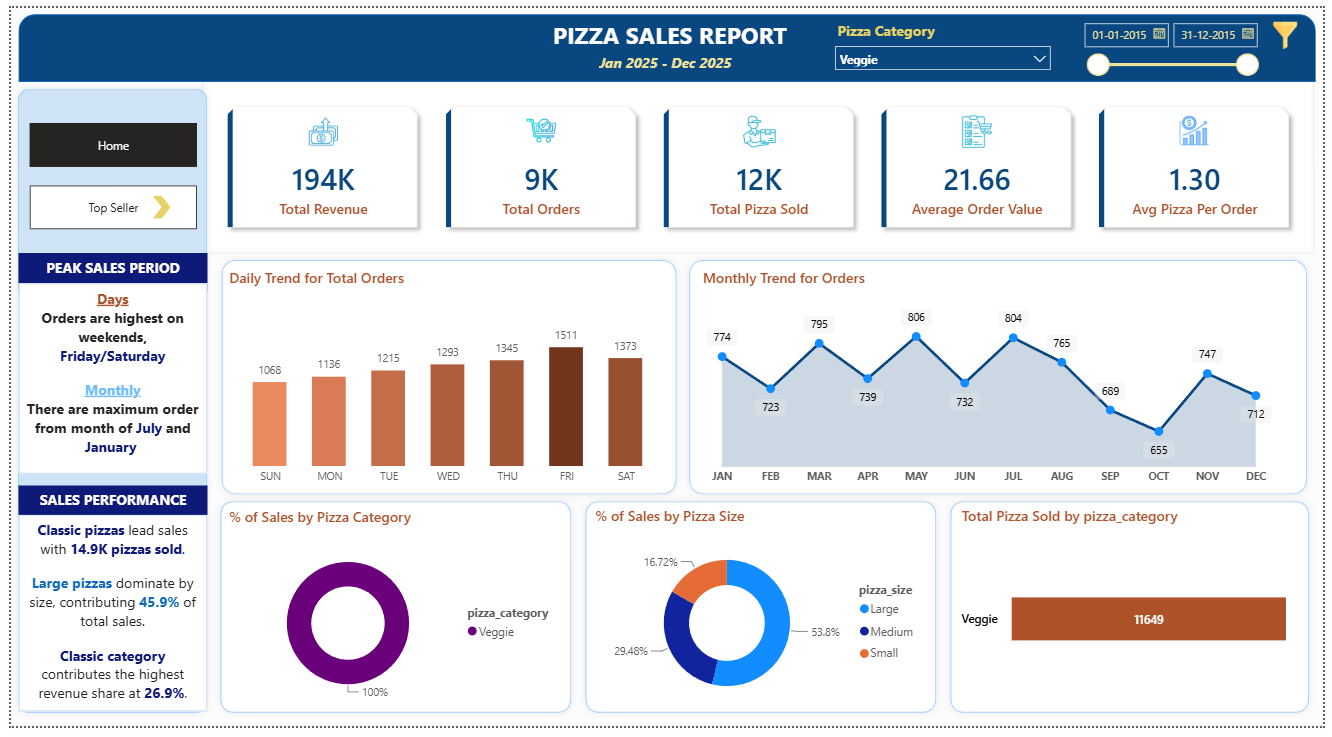

Layout of this report page (visuals, bound fields, positions):
{"tool":"powerbi","page":{"name":"Home","canvas":[1500,820],"ordinal":0},"visuals":[{"type":"cardVisual","fields":{"Data":["pizza_sales.Total Revenue","pizza_sales.Total Orders","pizza_sales.Total Pizza Sold","pizza_sales.Average Order Value","pizza_sales.Avg Pizza Per Order"]},"box":[218.7,82.7,1272,197.3],"z":0},{"type":"shape","box":[8,6.7,1482.7,77.3],"z":1000},{"type":"textbox","box":[614.3,7.1,280,50],"z":2000},{"type":"textbox","box":[666.7,46.2,167.9,35.9],"z":3000},{"type":"shape","box":[232.2,280.5,535.6,283.9],"z":4000},{"type":"columnChart","title":"Daily Trend for Total Orders","fields":{"Y":["pizza_sales.Total Orders"],"Category":["pizza_sales.Day"]},"box":[244.8,297.7,511.5,256.3],"z":5000},{"type":"shape","box":[767.8,280.5,721.8,283.9],"z":6000},{"type":"areaChart","title":"Monthly Trend for Orders","fields":{"Category":["pizza_sales.Order Month"],"Y":["pizza_sales.Total Orders"]},"box":[786.2,297.7,664.4,256.3],"z":7000},{"type":"shape","box":[1065.4,555.1,425.6,257.7],"z":8000},{"type":"shape","box":[648.7,555.1,416.7,257.7],"z":9000},{"type":"shape","box":[232.1,556.4,416.7,257.7],"z":10000},{"type":"donutChart","title":"% of Sales by Pizza Category","fields":{"Category":["pizza_sales.pizza_category"],"Y":["pizza_sales.Total Revenue"]},"box":[244.9,570.5,391,233.3],"z":11000},{"type":"donutChart","title":"% of Sales by Pizza Size","fields":{"Y":["pizza_sales.Total Revenue"],"Category":["pizza_sales.pizza_size"]},"box":[662.8,569.2,391,235.9],"z":12000},{"type":"funnel","title":"Total Pizza Sold by pizza_category","fields":{"Y":["pizza_sales.Total Pizza Sold"],"Category":["pizza_sales.pizza_category"]},"box":[1082.1,569.2,385.9,225.6],"z":13000},{"type":"shape","box":[0,84.6,232.1,729.5],"z":14000},{"type":"textbox","box":[8.6,280.2,216,43.2],"z":15000},{"type":"textbox","box":[8.6,313.6,216,218.5],"z":16000},{"type":"textbox","box":[8.6,579,216,225.9],"z":17000},{"type":"textbox","box":[8,546,216.1,33.3],"z":18000},{"type":"pageNavigator","box":[21,130.9,191.4,50.6],"z":19000},{"type":"pageNavigator","box":[21,202.5,191.4,50.6],"z":20000},{"type":"shape","box":[162,214,21.1,26.7],"z":21000},{"type":"slicer","fields":{"Values":["pizza_sales.pizza_category"]},"box":[932,10.7,266.7,68],"z":22000},{"type":"slicer","fields":{"Values":["pizza_sales.order_date"]},"box":[1214.7,6.7,220,72],"z":23000},{"type":"image","box":[1435,16,44,31],"z":24000}]}

Visuals, with their boxes in screenshot pixels (x1, y1, x2, y2), scaled from the page's 1500x820 canvas onto the 1332x737 screenshot:
cardVisual - pizza_sales.Total Revenue x pizza_sales.Total Orders: x1=194, y1=74, x2=1324, y2=252
shape: x1=7, y1=6, x2=1324, y2=75
textbox: x1=545, y1=6, x2=794, y2=51
textbox: x1=592, y1=42, x2=741, y2=74
shape: x1=206, y1=252, x2=682, y2=507
"Daily Trend for Total Orders" columnChart: x1=217, y1=268, x2=672, y2=498
shape: x1=682, y1=252, x2=1323, y2=507
"Monthly Trend for Orders" areaChart: x1=698, y1=268, x2=1288, y2=498
shape: x1=946, y1=499, x2=1324, y2=731
shape: x1=576, y1=499, x2=946, y2=731
shape: x1=206, y1=500, x2=576, y2=732
"% of Sales by Pizza Category" donutChart: x1=217, y1=513, x2=565, y2=722
"% of Sales by Pizza Size" donutChart: x1=589, y1=512, x2=936, y2=724
"Total Pizza Sold by pizza_category" funnel: x1=961, y1=512, x2=1304, y2=714
shape: x1=0, y1=76, x2=206, y2=732
textbox: x1=8, y1=252, x2=199, y2=291
textbox: x1=8, y1=282, x2=199, y2=478
textbox: x1=8, y1=520, x2=199, y2=723
textbox: x1=7, y1=491, x2=199, y2=521
pageNavigator: x1=19, y1=118, x2=189, y2=163
pageNavigator: x1=19, y1=182, x2=189, y2=227
shape: x1=144, y1=192, x2=163, y2=216
slicer - pizza_sales.pizza_category: x1=828, y1=10, x2=1064, y2=71
slicer - pizza_sales.order_date: x1=1079, y1=6, x2=1274, y2=71
image: x1=1274, y1=14, x2=1313, y2=42
